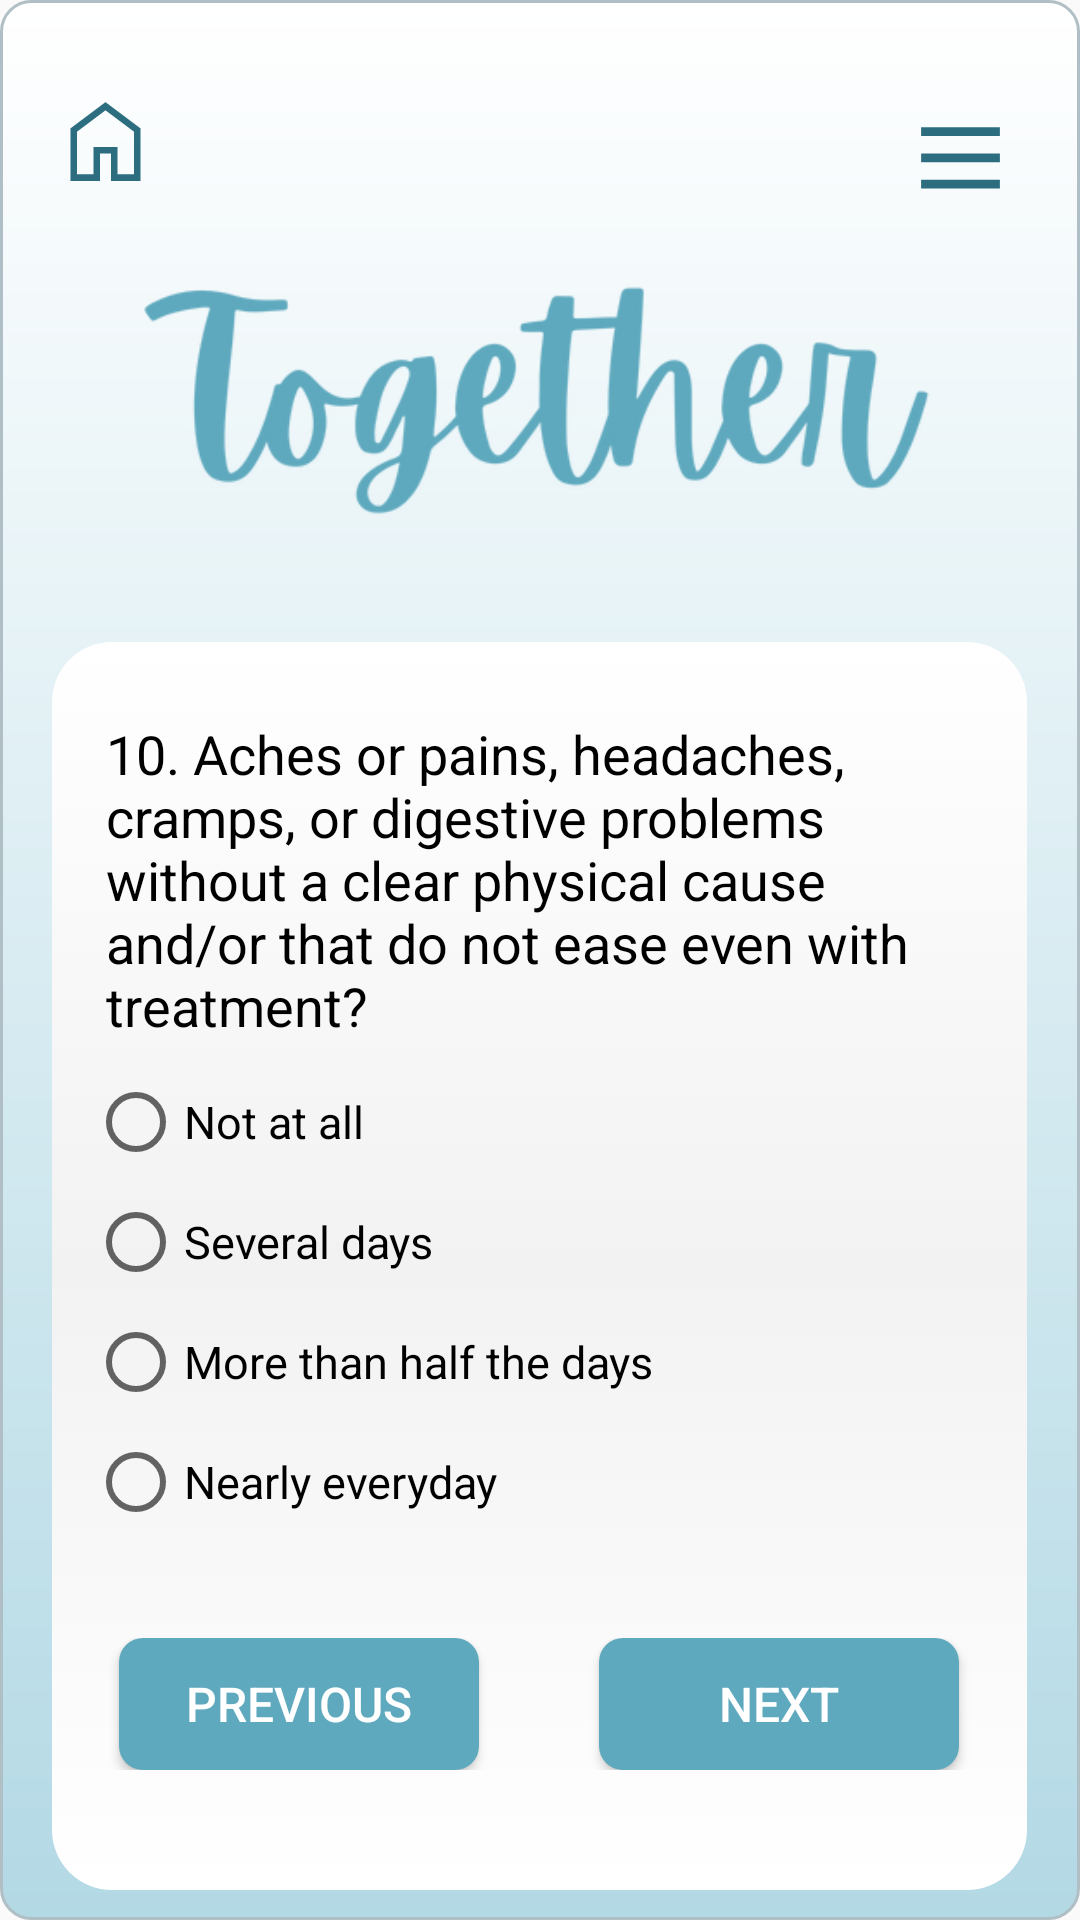

Named icons in this screenshot (1080px x 1920px) and their bounding boxes, (x1, y1, x2, y2):
hamburger: (921, 127, 1000, 189)
homebutton: (70, 102, 141, 181)
